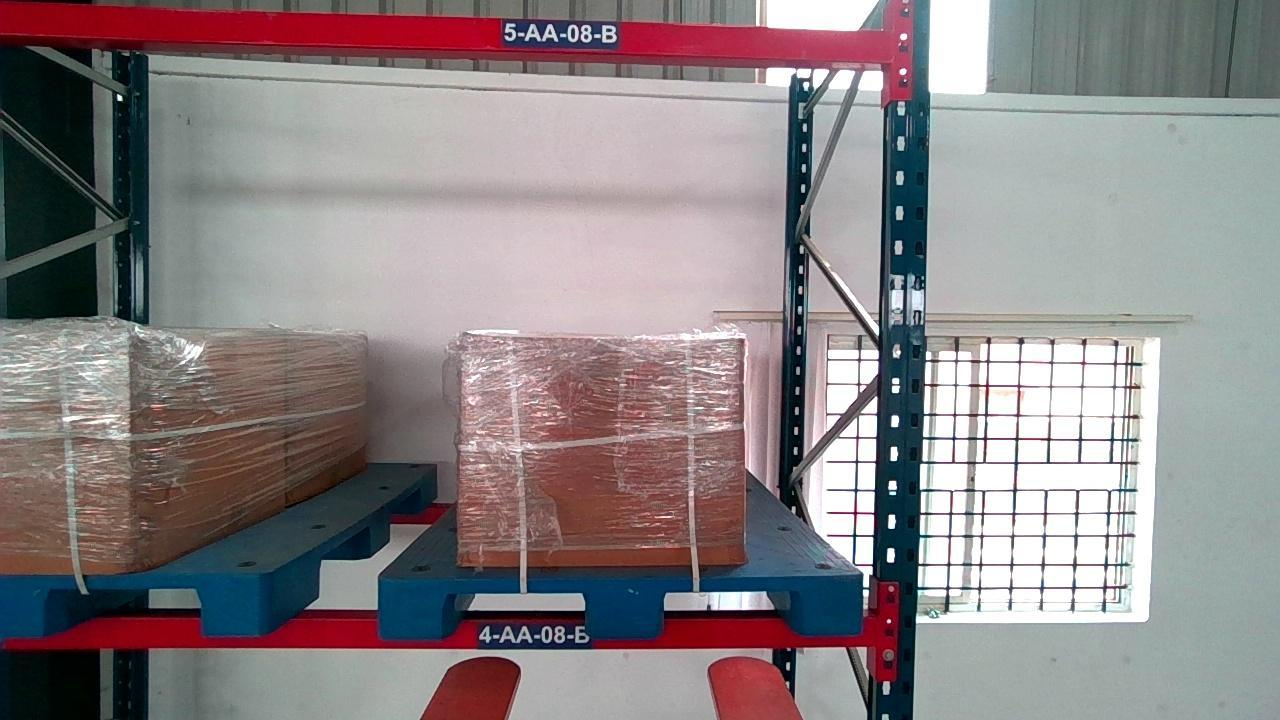h_rack: (0, 0, 893, 65), (3, 612, 874, 652)
small_pallet: (379, 576, 861, 637), (1, 576, 264, 635)
